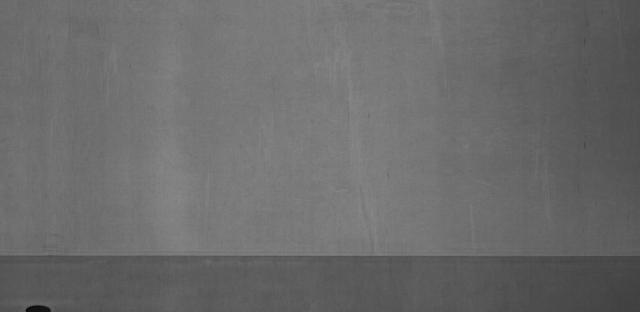welding_line: (1, 244, 640, 271)
